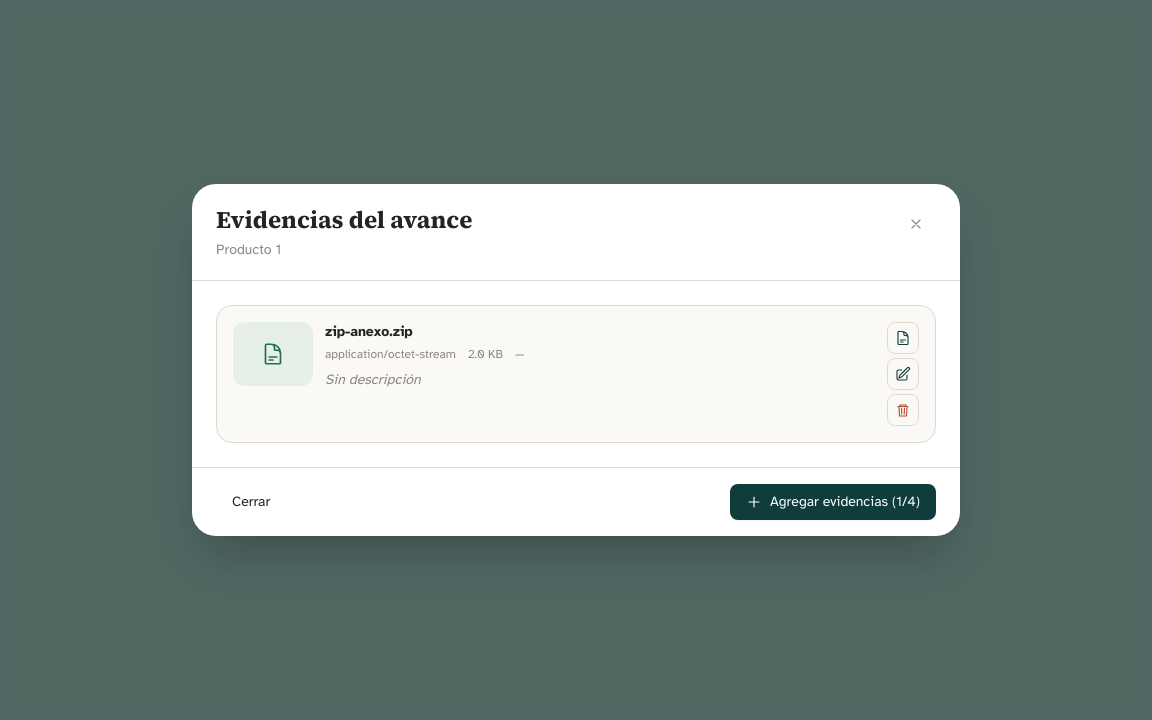
Scenario: descarga de evidencias › muestra error cuando la descarga falla
Click the button titled "Descargar". click: (903, 338)
box: [887,322,919,354]
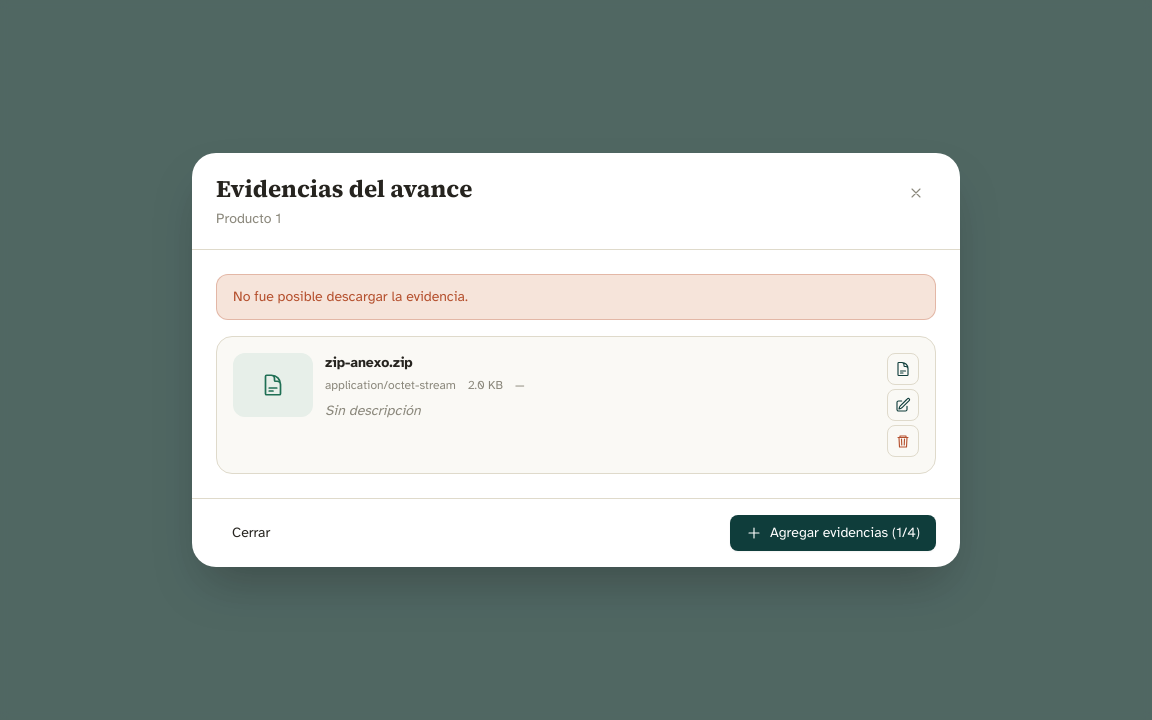
Now the message reads "No fue posible descargar la evidencia.", box [233,288,468,305]
